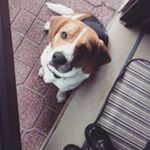puppy: (33, 1, 114, 105)
